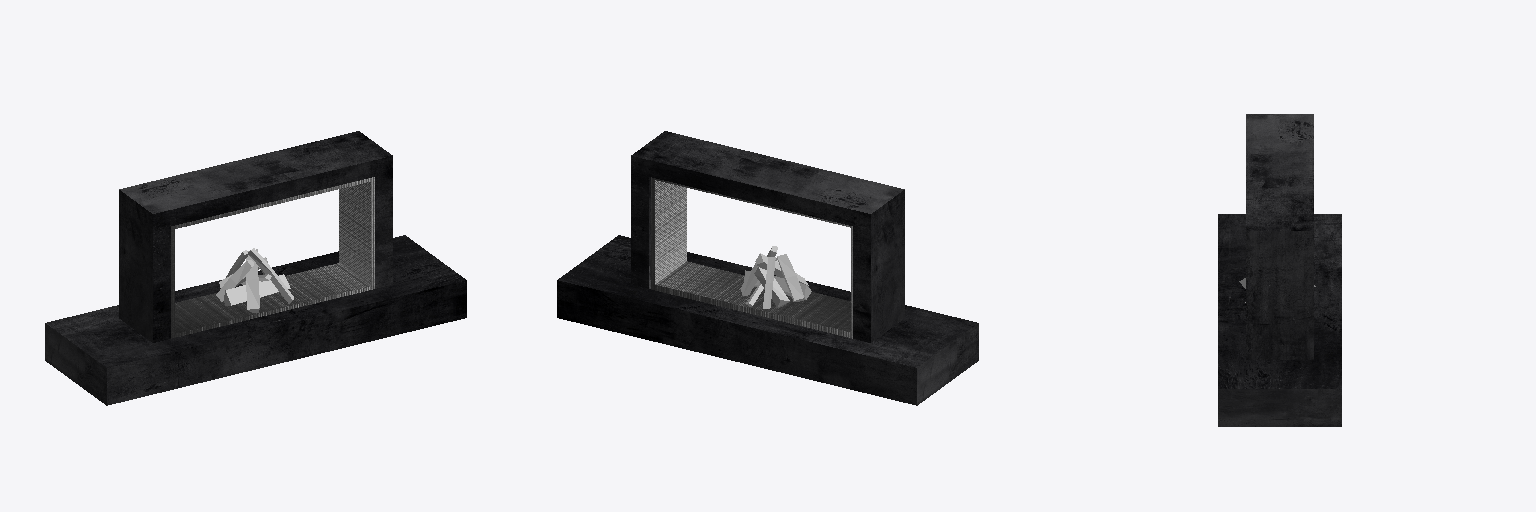
3 renders of one model, left to right at view 1: azimuth 30°, elevation 25°; view 2: azimuth 150°, elevation 25°; view 3: azimuth 270°, elevation 25°, orthographic.
Parts seen in each view (by area): view 1: Assem1_-_wooden_case_part-1, Assem1_-_steel_case_part-1, Bonfire.001_Cylinder.001; view 2: Assem1_-_wooden_case_part-1, Assem1_-_steel_case_part-1, Bonfire.001_Cylinder.001; view 3: Assem1_-_wooden_case_part-1.
Part boxes in pixels (x1,y1,x2,y2): Assem1_-_wooden_case_part-1: (45,131,466,405); Assem1_-_steel_case_part-1: (171,177,374,338); Bonfire.001_Cylinder.001: (216,248,293,312); Assem1_-_wooden_case_part-1: (557,131,978,405); Assem1_-_steel_case_part-1: (651,177,852,338); Bonfire.001_Cylinder.001: (740,246,811,308); Assem1_-_wooden_case_part-1: (1218,114,1341,426).
Size of the model in its own units: 5.99 by 2.65 by 1.77.
3 materials, 2 textured.